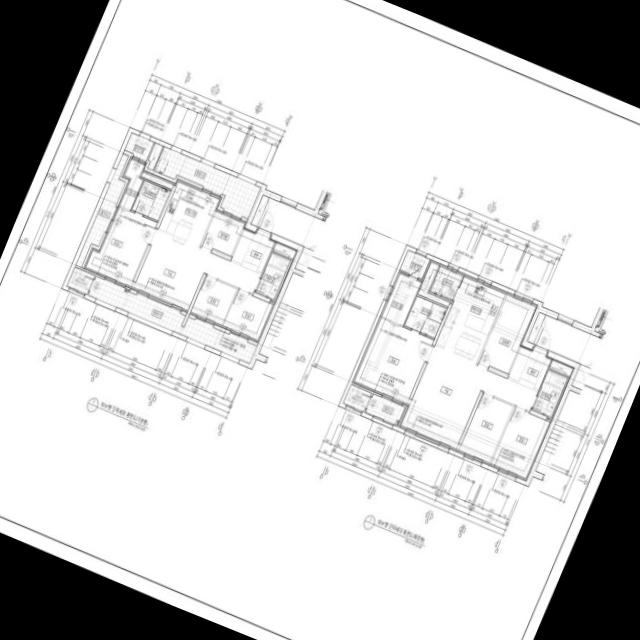background: (0, 0, 640, 640)
space_balconi: (88, 276, 256, 362), (153, 146, 260, 218), (75, 153, 127, 267), (364, 393, 404, 425)
space_bedroom: (351, 317, 433, 405), (83, 206, 156, 287), (490, 407, 550, 480), (457, 393, 513, 464), (222, 289, 273, 342), (189, 275, 236, 326)
space_dressroom: (380, 271, 421, 324), (117, 156, 145, 210)
space_elevator_hall: (256, 197, 324, 249), (533, 315, 600, 367)
space_front: (507, 345, 551, 389), (231, 227, 274, 271)
space_kitchen: (434, 274, 505, 364), (157, 178, 221, 247)
space_living_room: (398, 346, 537, 450), (132, 229, 260, 312)
space_multipurpose_space: (428, 263, 463, 300)
space_other: (477, 292, 537, 373), (200, 209, 246, 255), (417, 259, 450, 306), (66, 266, 94, 293), (343, 384, 370, 411), (140, 169, 173, 188), (527, 312, 545, 343), (250, 195, 268, 225), (294, 246, 313, 272), (571, 364, 590, 389), (272, 241, 296, 259), (146, 142, 162, 169), (549, 358, 573, 376)
space_outdoor_room: (400, 250, 430, 278), (123, 132, 153, 160)
space_staircase: (258, 272, 302, 357), (535, 389, 579, 474)
space_toilet: (404, 295, 446, 338), (531, 369, 567, 417), (254, 252, 290, 299), (131, 179, 170, 220)
